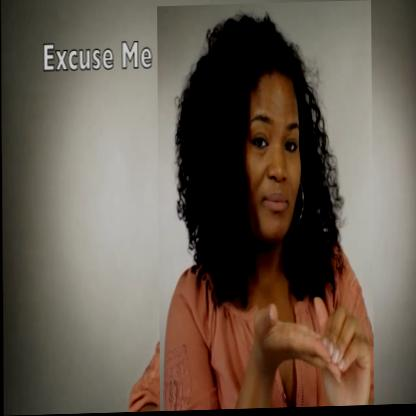ExcuseMe: (157, 2, 373, 412)
